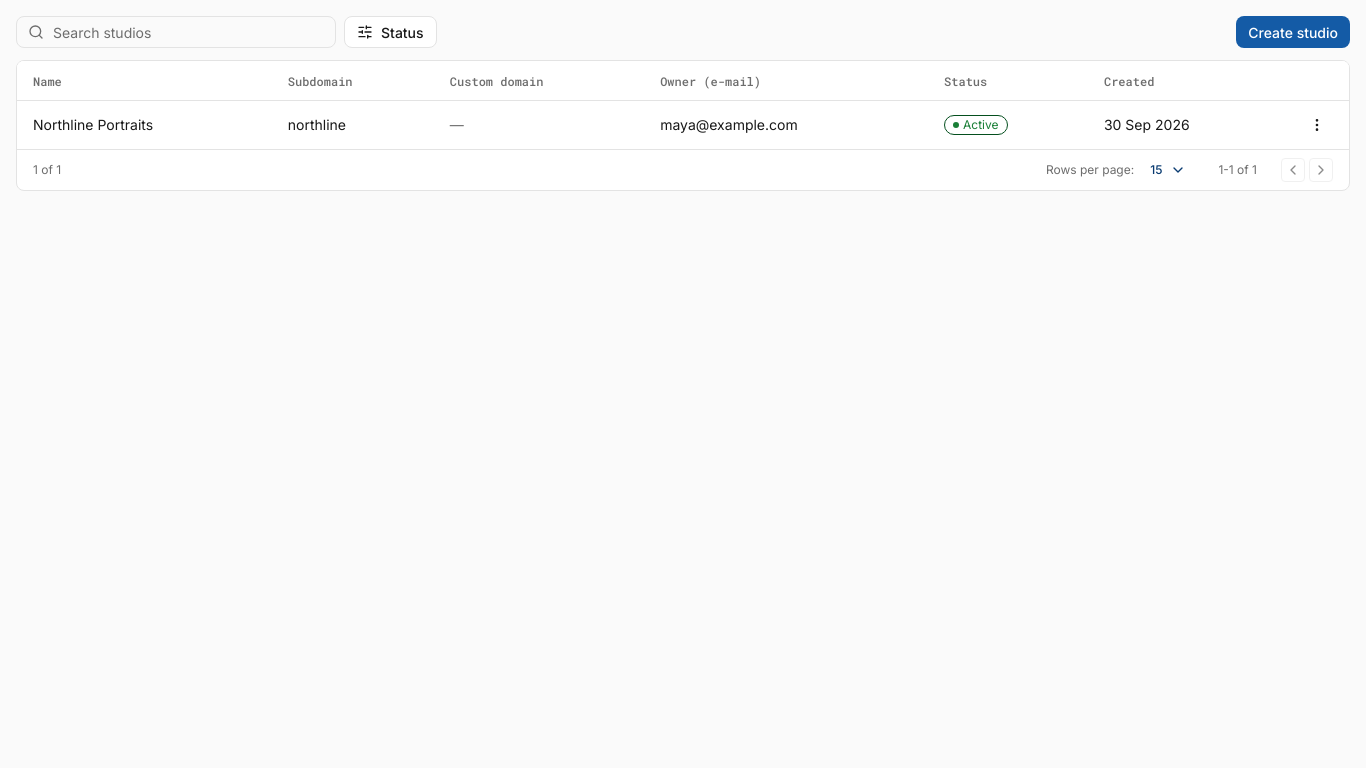
StudiosList: row menu › Deactivate asks to confirm before the request
The image size is (1366, 768).
Press Enter in the button named "Actions for Northline Portraits", box [1301,109,1333,141]
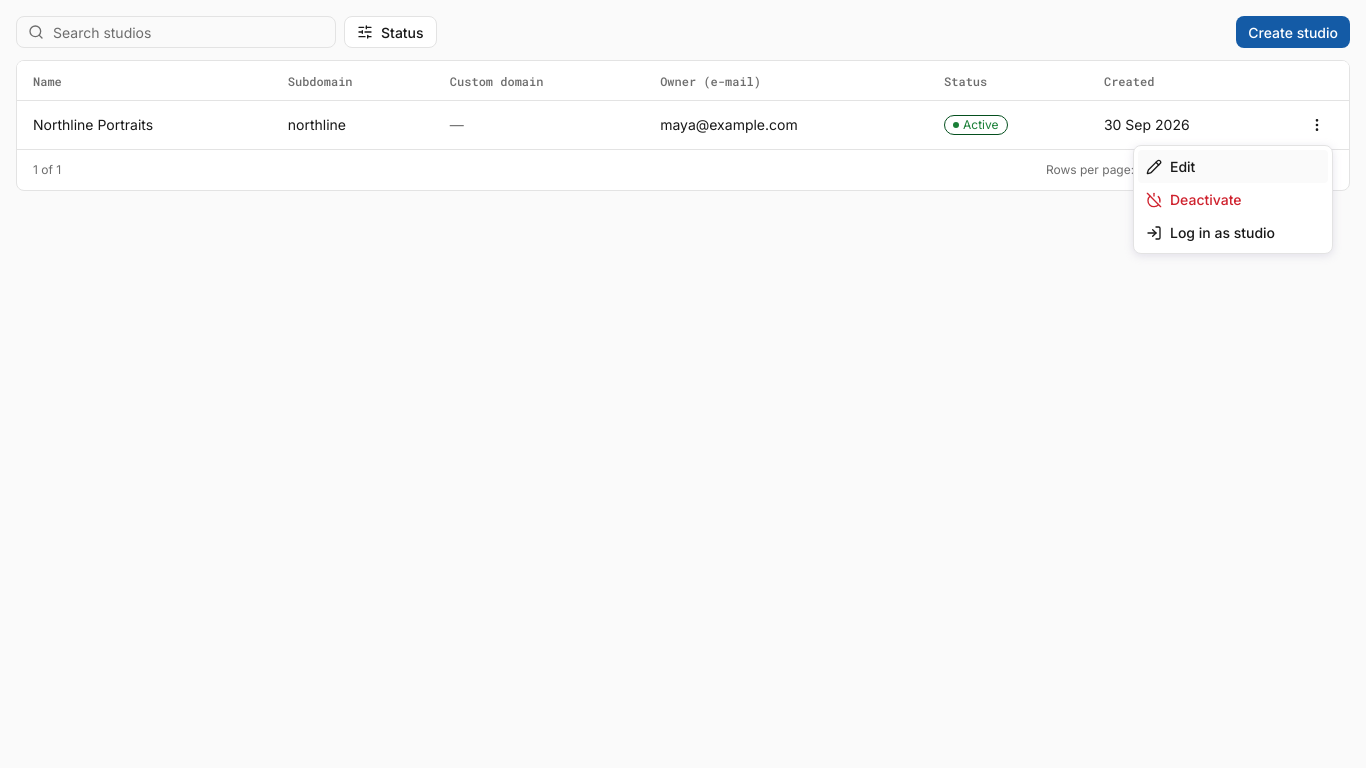
Click the menu item "Deactivate". click: (1194, 200)
box: [1146,191,1242,208]
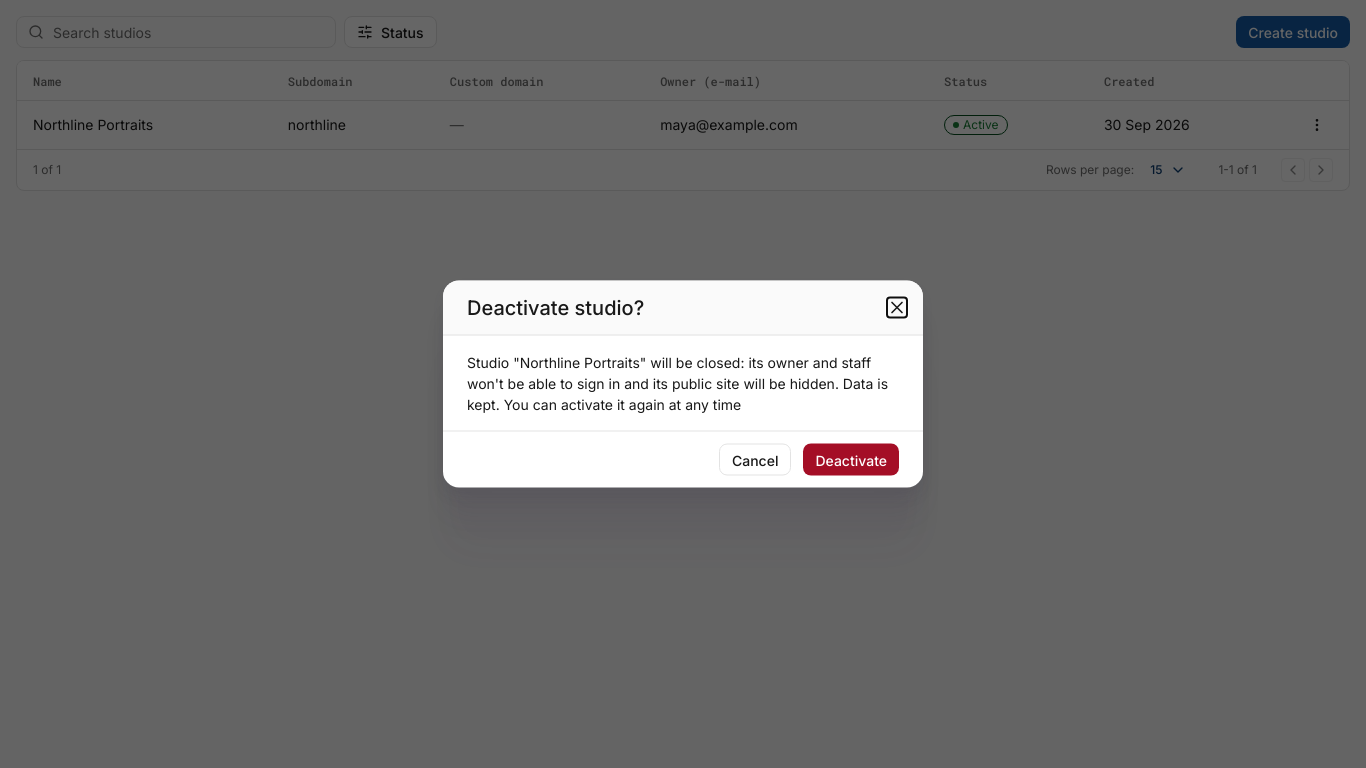
Check: the heading "Deactivate studio?" is shown, box [467,296,644,320]
